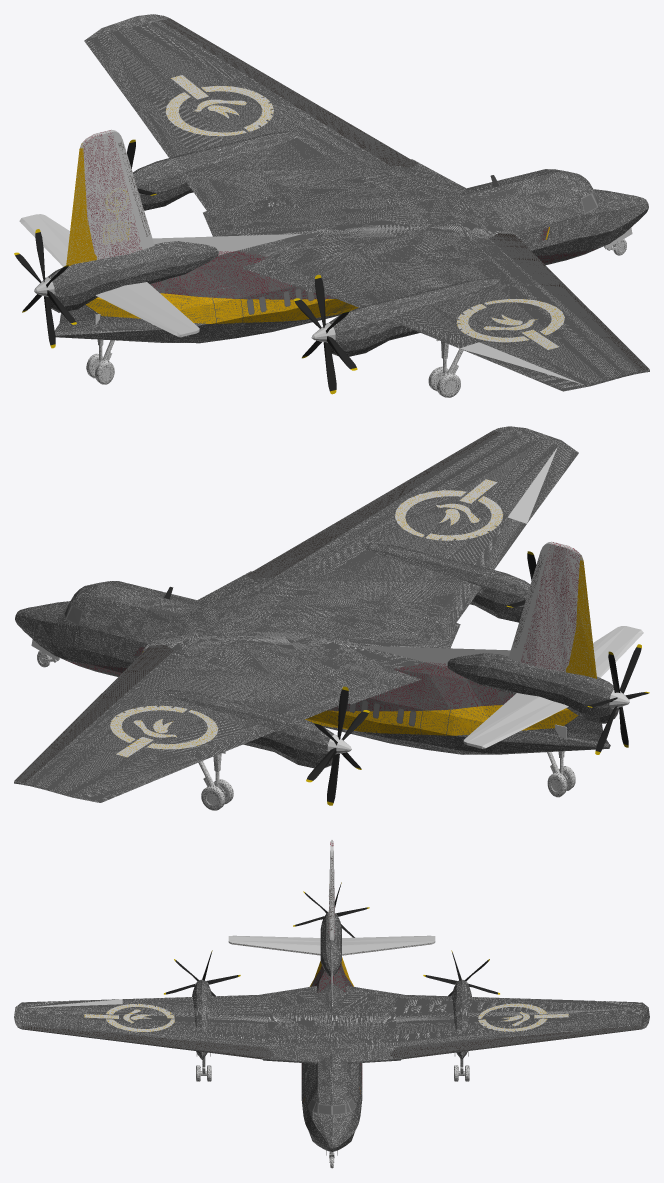
The picture shows the model from 3 angles, top to bottom: view 1: azimuth 30°, elevation 25°; view 2: azimuth 150°, elevation 25°; view 3: azimuth 270°, elevation 25°; orthographic projection. The views are drawn at different scales.
Parts seen in each view (by area): view 1: mesh28.001_mesh28-geometry, mesh39.001_mesh39-geometry, mesh29.001_mesh29-geometry, mesh27.001_mesh27-geometry, mesh37.001_mesh37-geometry, mesh55.001_mesh55-geometry, mesh19.001_mesh19-geometry, mesh30.001_mesh30-geometry, mesh46.001_mesh46-geometry, mesh51.001_mesh51-geometry, mesh21.003_mesh21-geometry, mesh21.004_mesh21-geometry (+5 smaller); view 2: mesh29.001_mesh29-geometry, mesh39.001_mesh39-geometry, mesh28.001_mesh28-geometry, mesh27.001_mesh27-geometry, mesh37.001_mesh37-geometry, mesh55.001_mesh55-geometry, mesh30.001_mesh30-geometry, mesh46.001_mesh46-geometry, mesh19.001_mesh19-geometry, mesh51.001_mesh51-geometry, mesh32.002_mesh32-geometry, mesh21.004_mesh21-geometry (+5 smaller); view 3: mesh28.001_mesh28-geometry, mesh29.001_mesh29-geometry, mesh27.001_mesh27-geometry, mesh39.001_mesh39-geometry, mesh46.001_mesh46-geometry, mesh37.001_mesh37-geometry, mesh19.001_mesh19-geometry, mesh30.001_mesh30-geometry, mesh55.001_mesh55-geometry.
Boxes of the visible parts, <box> form: mesh28.001_mesh28-geometry: <box>84,14,417,216</box>; mesh39.001_mesh39-geometry: <box>54,169,648,343</box>; mesh29.001_mesh29-geometry: <box>305,233,649,391</box>; mesh27.001_mesh27-geometry: <box>203,159,520,292</box>; mesh37.001_mesh37-geometry: <box>48,241,218,312</box>; mesh55.001_mesh55-geometry: <box>79,129,154,259</box>; mesh19.001_mesh19-geometry: <box>329,278,500,356</box>; mesh30.001_mesh30-geometry: <box>133,131,299,210</box>; mesh46.001_mesh46-geometry: <box>19,214,199,337</box>; mesh51.001_mesh51-geometry: <box>66,146,96,265</box>; mesh21.003_mesh21-geometry: <box>293,274,357,394</box>; mesh21.004_mesh21-geometry: <box>14,229,76,348</box>; mesh29.001_mesh29-geometry: <box>246,426,578,628</box>; mesh39.001_mesh39-geometry: <box>15,581,610,754</box>; mesh28.001_mesh28-geometry: <box>14,645,357,802</box>; mesh27.001_mesh27-geometry: <box>143,571,460,704</box>; mesh37.001_mesh37-geometry: <box>447,653,614,723</box>; mesh55.001_mesh55-geometry: <box>508,541,583,672</box>; mesh30.001_mesh30-geometry: <box>163,690,334,768</box>; mesh46.001_mesh46-geometry: <box>463,626,643,748</box>; mesh19.001_mesh19-geometry: <box>363,543,530,622</box>; mesh51.001_mesh51-geometry: <box>566,558,596,678</box>; mesh32.002_mesh32-geometry: <box>306,686,369,805</box>; mesh21.004_mesh21-geometry: <box>587,644,649,754</box>; mesh28.001_mesh28-geometry: <box>390,994,649,1059</box>; mesh29.001_mesh29-geometry: <box>14,994,273,1059</box>; mesh27.001_mesh27-geometry: <box>261,985,402,1063</box>; mesh39.001_mesh39-geometry: <box>301,957,362,1151</box>; mesh46.001_mesh46-geometry: <box>228,935,435,955</box>; mesh37.001_mesh37-geometry: <box>320,912,341,976</box>; mesh19.001_mesh19-geometry: <box>192,980,211,1059</box>; mesh30.001_mesh30-geometry: <box>452,980,471,1059</box>; mesh55.001_mesh55-geometry: <box>328,840,335,940</box>.
Size of the model in its own units: 0.5708 by 0.2207 by 0.7909.
